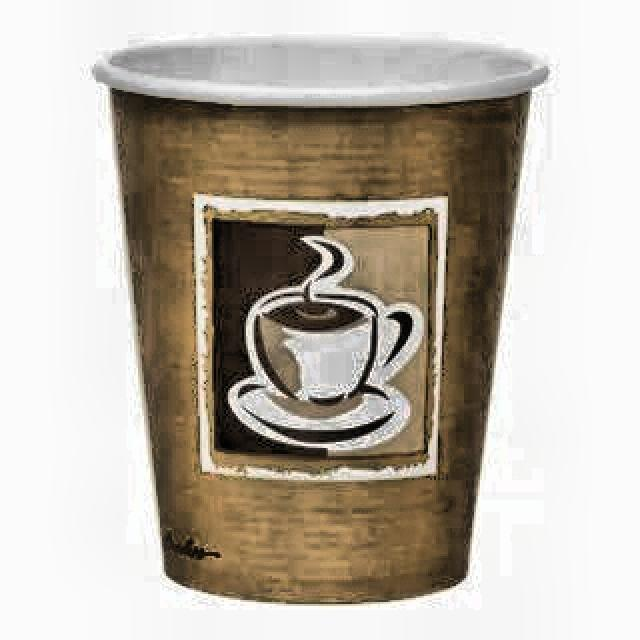Cup: (88, 14, 551, 612)
